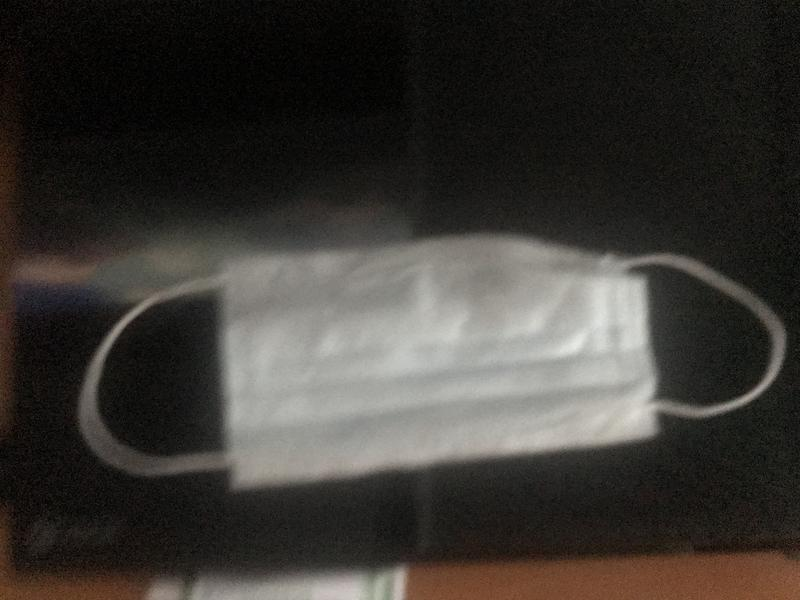medical_mask: (82, 238, 785, 493)
